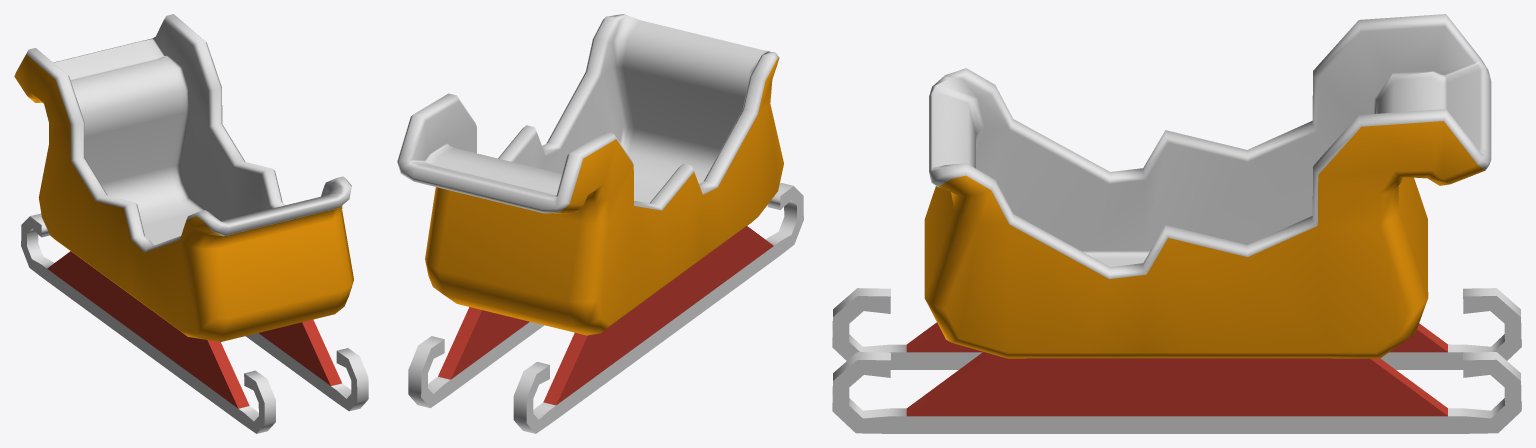
The model's file is rickshaw.fbx.
3 views of the same model, side by side, from view 1: azimuth 30°, elevation 25°; view 2: azimuth 150°, elevation 25°; view 3: azimuth 270°, elevation 25° (orthographic). The views are drawn at different scales.
Parts seen in each view (by area): view 1: rickshaw; view 2: rickshaw; view 3: rickshaw.
Boxes of the visible parts, x1,y1,x2,y2 form: rickshaw: (14,14,368,433); rickshaw: (397,14,803,433); rickshaw: (832,14,1521,433).
Size of the model in its own units: 17.68 by 26.43 by 49.24.
